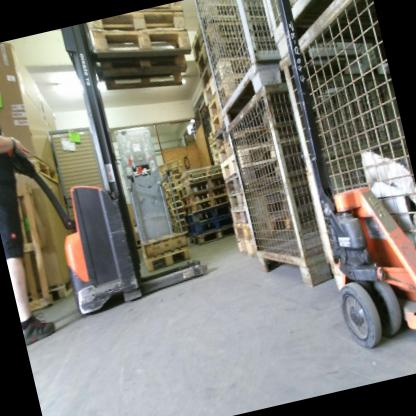pallet: (0, 167, 63, 320), (91, 14, 192, 72), (90, 2, 186, 45), (3, 146, 62, 195), (19, 269, 82, 311), (141, 242, 193, 273), (178, 173, 226, 198), (183, 203, 232, 226), (188, 225, 237, 247), (181, 185, 229, 207), (186, 215, 235, 236), (182, 193, 231, 214), (176, 165, 222, 184), (188, 27, 207, 62), (236, 234, 257, 260), (201, 79, 219, 108), (218, 156, 238, 181), (215, 140, 234, 163), (196, 62, 213, 87), (233, 221, 252, 243), (224, 174, 243, 196), (212, 126, 230, 148), (231, 206, 249, 226), (209, 111, 223, 133), (157, 160, 182, 172), (228, 193, 246, 208), (169, 206, 185, 217), (165, 181, 179, 192), (165, 188, 180, 197), (163, 175, 177, 184), (172, 219, 187, 227), (172, 213, 185, 222), (169, 201, 182, 210), (167, 195, 181, 203), (175, 225, 188, 233)
pallet_truck: (0, 9, 215, 327), (244, 0, 416, 377)
stillage: (217, 54, 416, 295), (261, 0, 416, 308), (192, 0, 292, 129), (259, 0, 381, 65), (48, 120, 109, 206), (65, 200, 79, 234)
